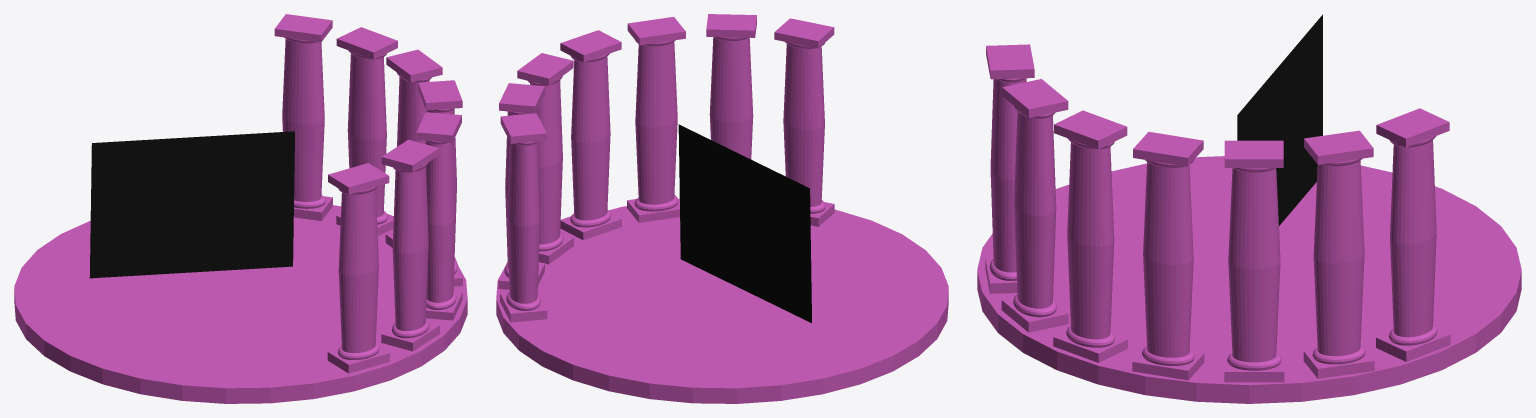
File: Float6.fbx
3 views of the same model, side by side, from view 1: azimuth 30°, elevation 25°; view 2: azimuth 150°, elevation 25°; view 3: azimuth 270°, elevation 25° (orthographic). The views are drawn at different scales.
Parts seen in each view (by area): view 1: Plane; view 2: Plane; view 3: Plane.
Part boxes in pixels (x1,y1,x2,y2): Plane: (14, 14, 467, 403); Plane: (496, 14, 948, 403); Plane: (977, 14, 1521, 403).
Bounding box in the file's own units: 1415 × 693 × 1415.
